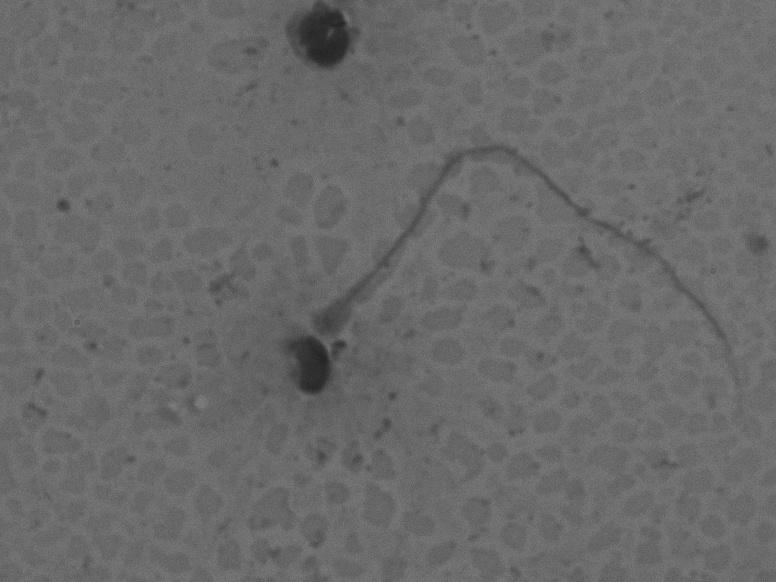Abnormal: (279, 121, 755, 452)
